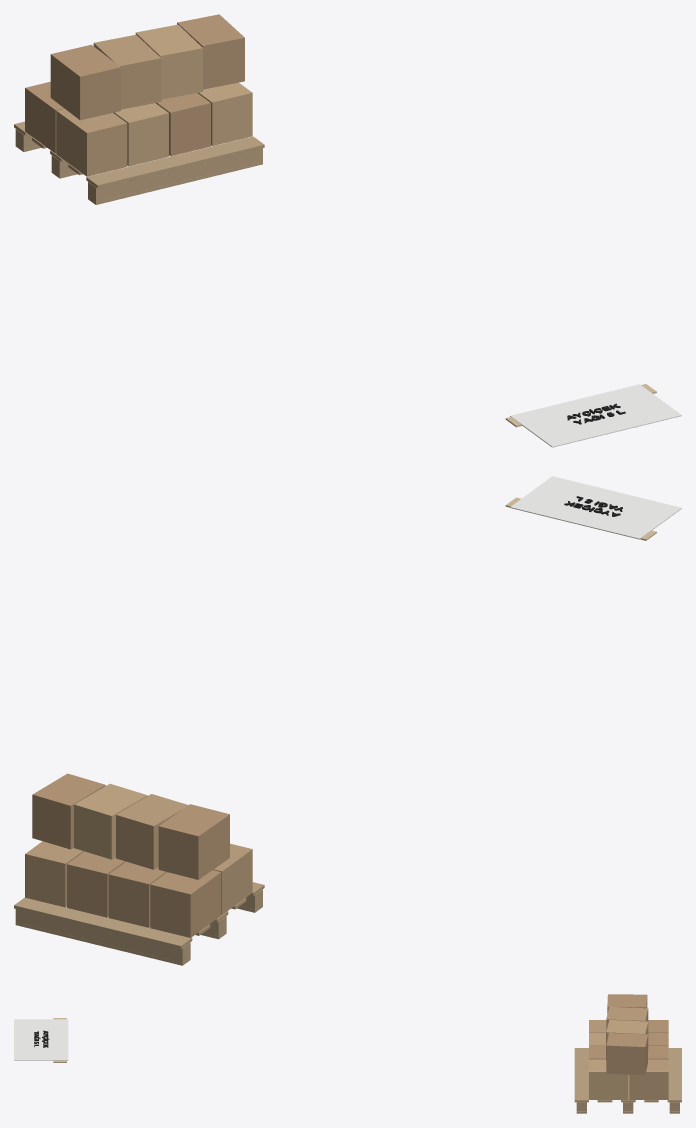
The model's file is delivery-belirsiz.glb.
3 renders of one model, top to bottom at view 1: azimuth 30°, elevation 25°; view 2: azimuth 150°, elevation 25°; view 3: azimuth 270°, elevation 25°, orthographic. The views are drawn at different scales.
Parts seen in each view (by area): view 1: delivery; view 2: delivery; view 3: delivery.
Boxes of the visible parts, x1,y1,x2,y2 form: delivery: (14,14,681,447); delivery: (14,476,681,965); delivery: (14,994,681,1113).
Size of the model in its own units: 1.27 by 0.745 by 6.47.
